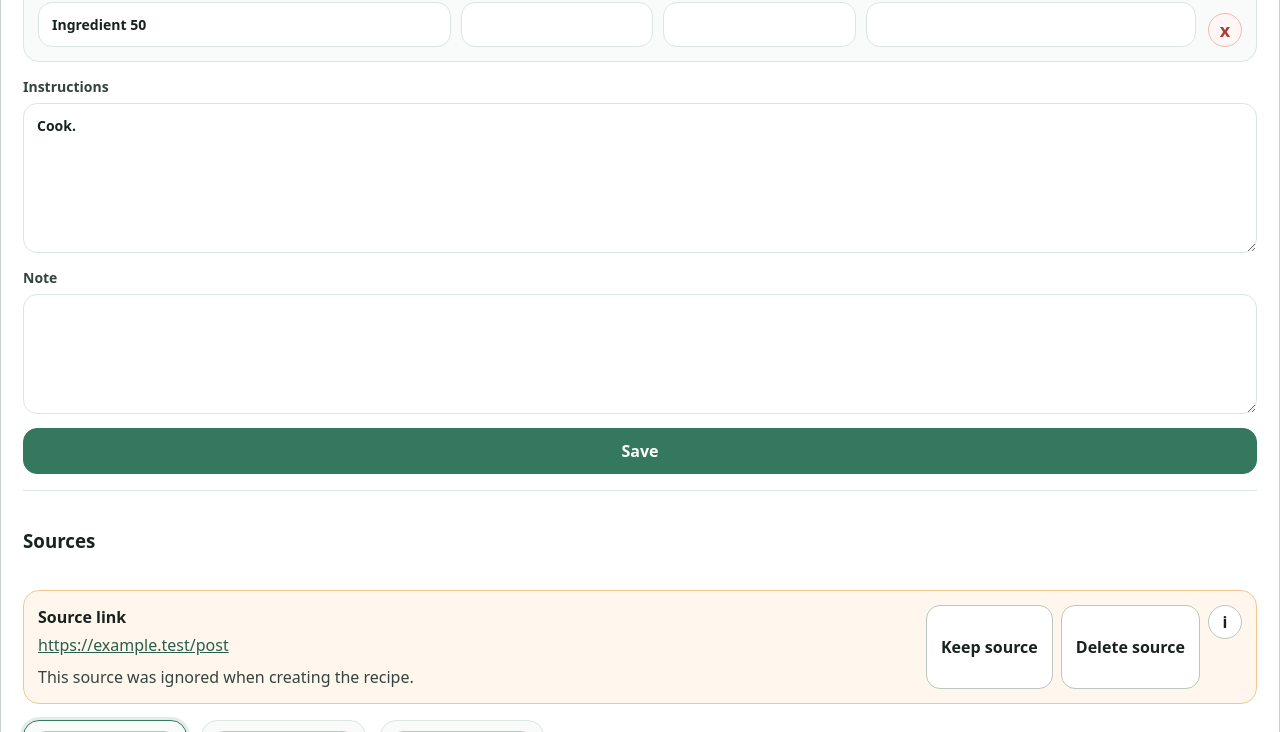
it: RecipeDetailPage › validates editable recipe limits before saving
(page scrolled)
Check: the field labelled "Ingredient 51 name" is shown, box [38,2,451,47]
Click the button "Save": (640, 451) [23,428,1257,474]
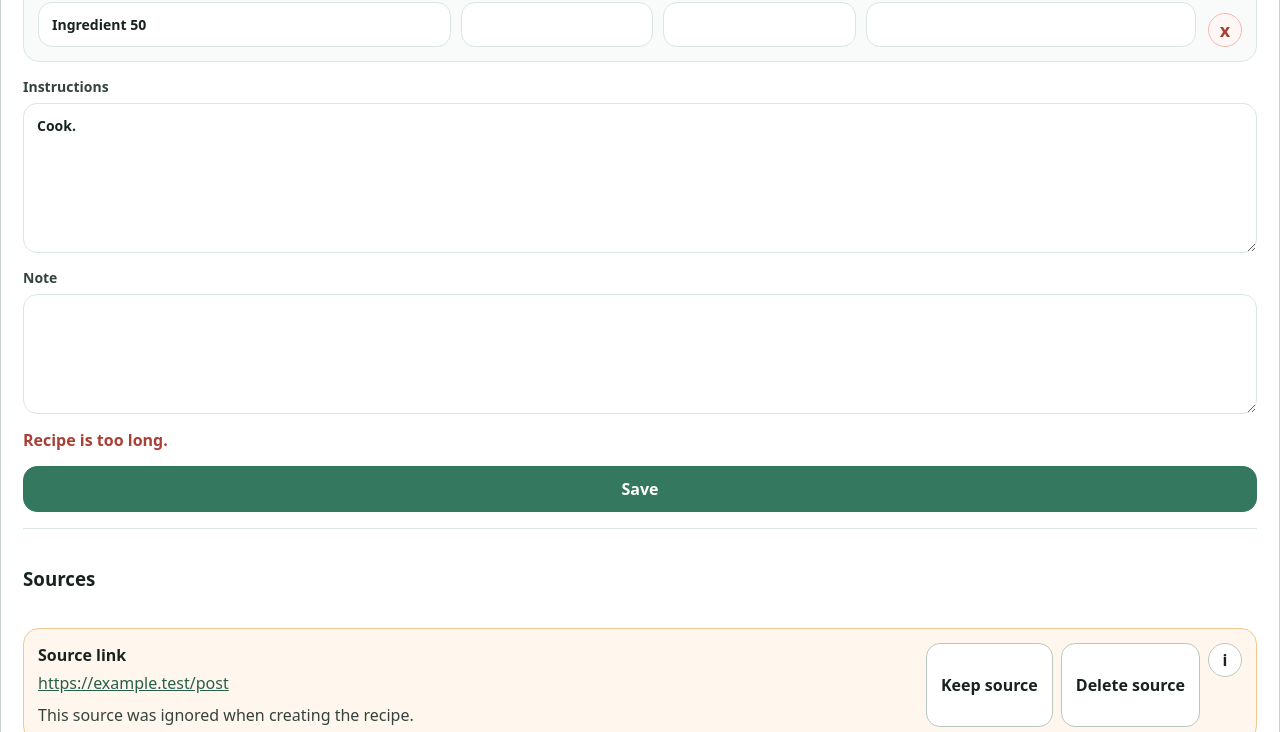
Check: the message reads "Recipe is too long.", box [23,429,168,451]
